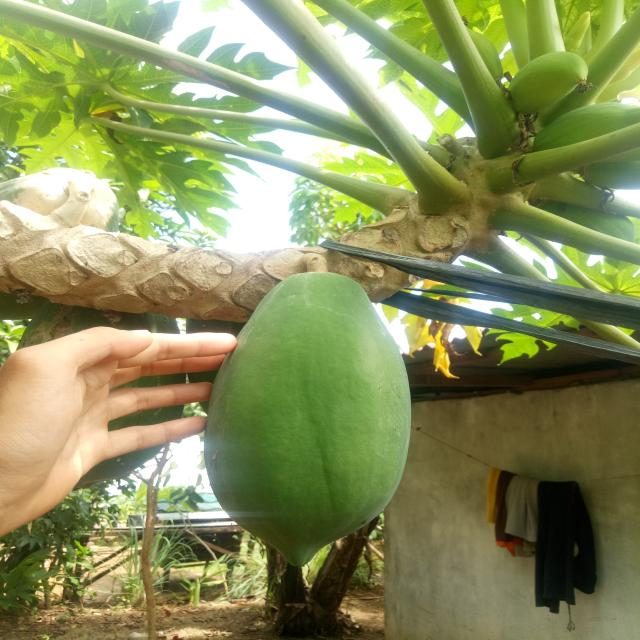Pepaya unrippen: (217, 272, 409, 567)
